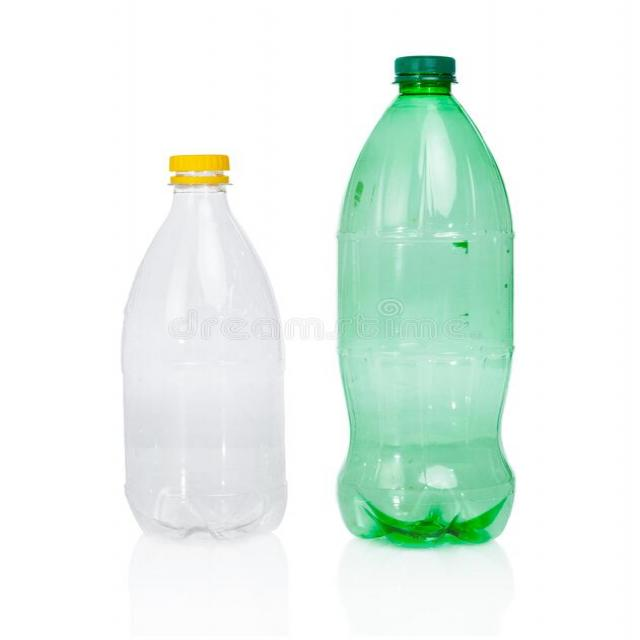Botella Plastica: (333, 52, 516, 538), (129, 151, 289, 530)
